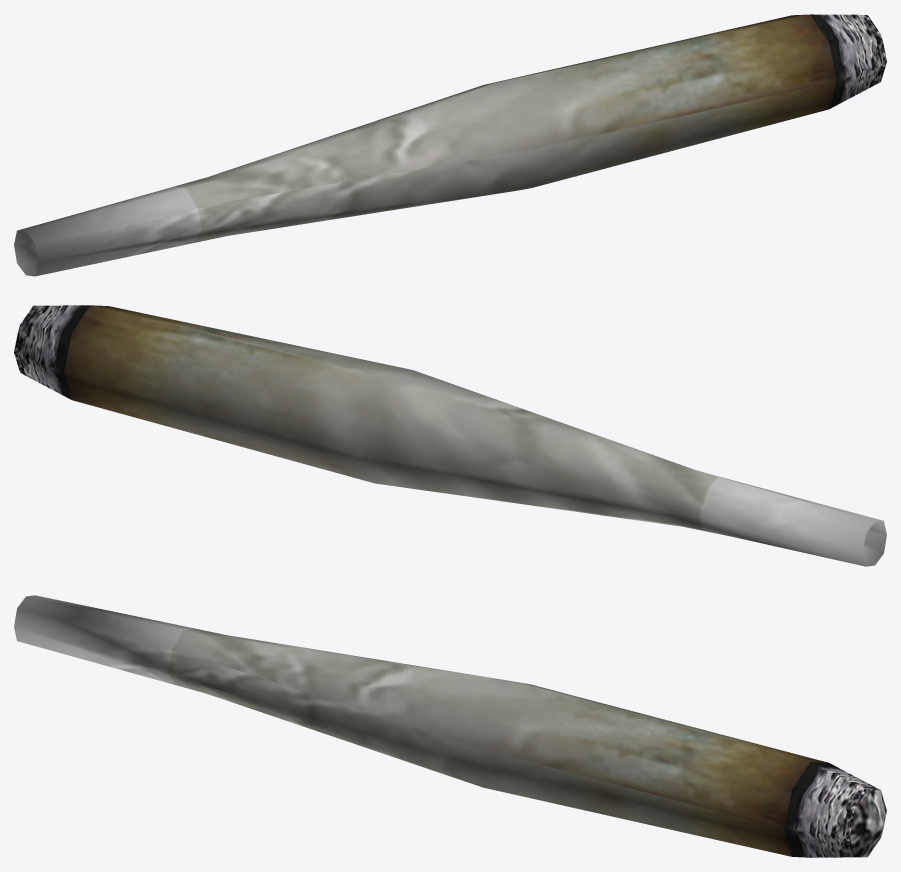
Rendered from fat-joint.glb.
3 renders of one model, top to bottom at view 1: azimuth 30°, elevation 25°; view 2: azimuth 150°, elevation 25°; view 3: azimuth 330°, elevation 25°, orthographic.
Parts seen in each view (by area): view 1: Fat Joint; view 2: Fat Joint; view 3: Fat Joint.
Part boxes in pixels (left/top/right/bottom): Fat Joint: left=14, top=14, right=886, bottom=276; Fat Joint: left=14, top=305, right=886, bottom=566; Fat Joint: left=14, top=595, right=886, bottom=857.
Bounding box in the file's own units: 0.0786 × 0.00902 × 0.00902.
1 material, 1 textured.
